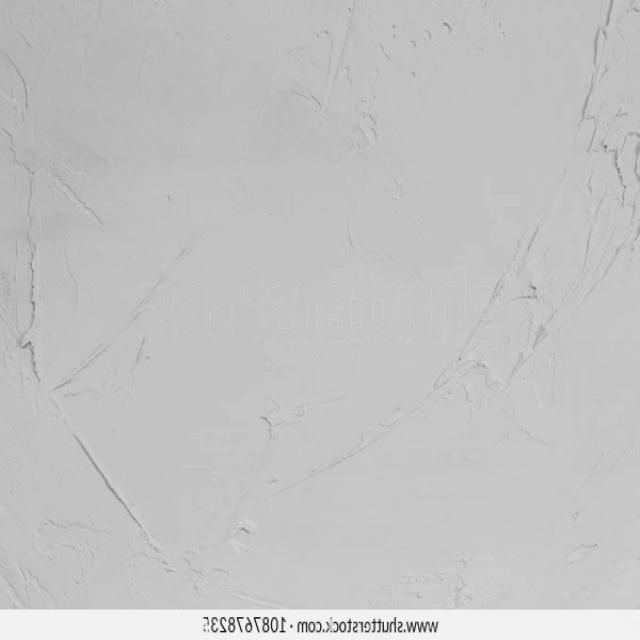rough and patchy surface: (0, 0, 640, 609)
